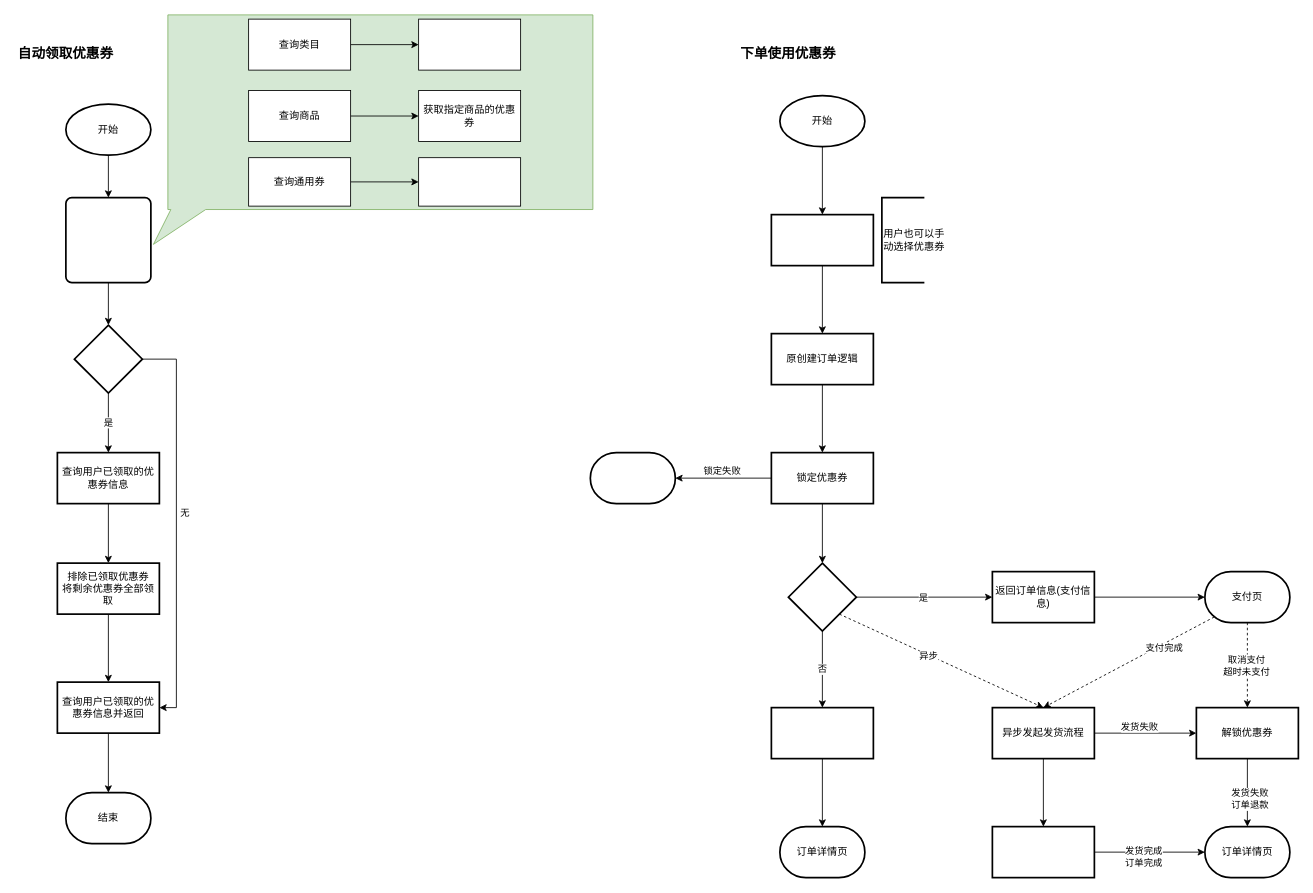
Some shapes in this 1313 by 893 pixel diagram are drawn without their labels. Here are the shapes that lost their labels. From the top down, the centre of each, then its label:
the point at 469,44: 获取指定类目的优惠券
the point at 469,181: 获取通用的优惠券
the point at 108,239: 根据应用和SPU 查询所有可以领取的开放优惠券信息
the point at 822,239: 前端根据返回的已领取的优惠券信息 按需求选择最合适的一张作为参数提交下单
the point at 108,359: 是否存在
the point at 632,477: 下单失败
the point at 822,597: 是否需求支付
the point at 822,732: 返回订单信息
the point at 1043,851: 优惠券更新为已使用
